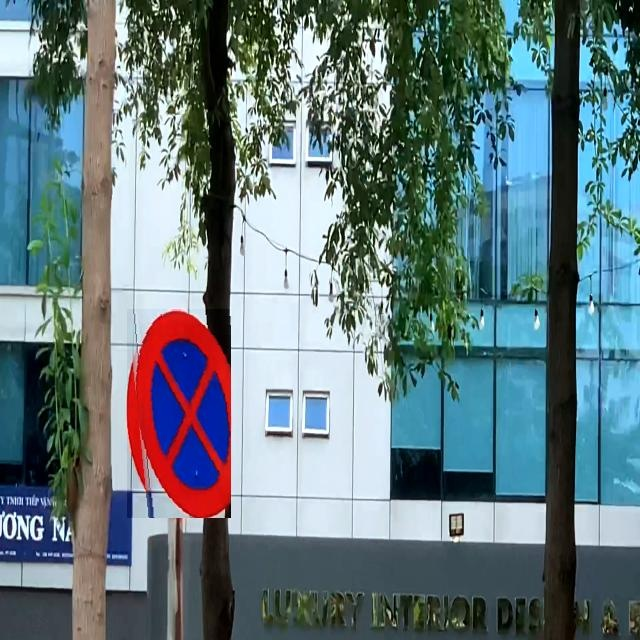bien_cam: (127, 309, 231, 518)
